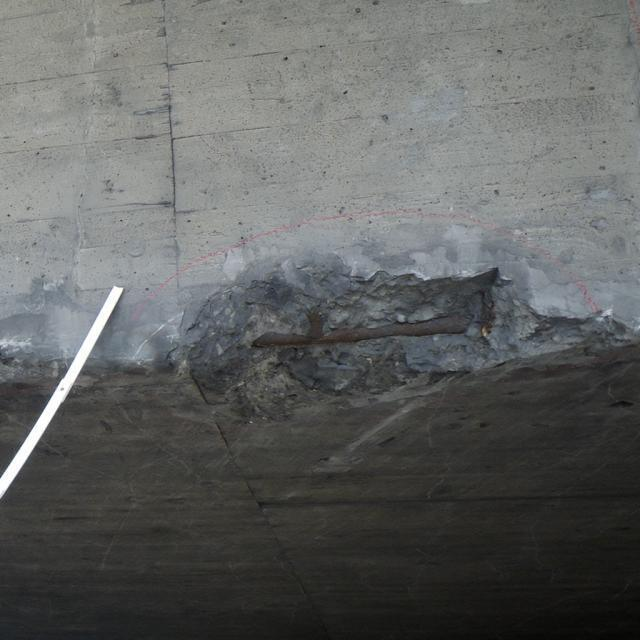D10: (174, 266, 625, 424)
